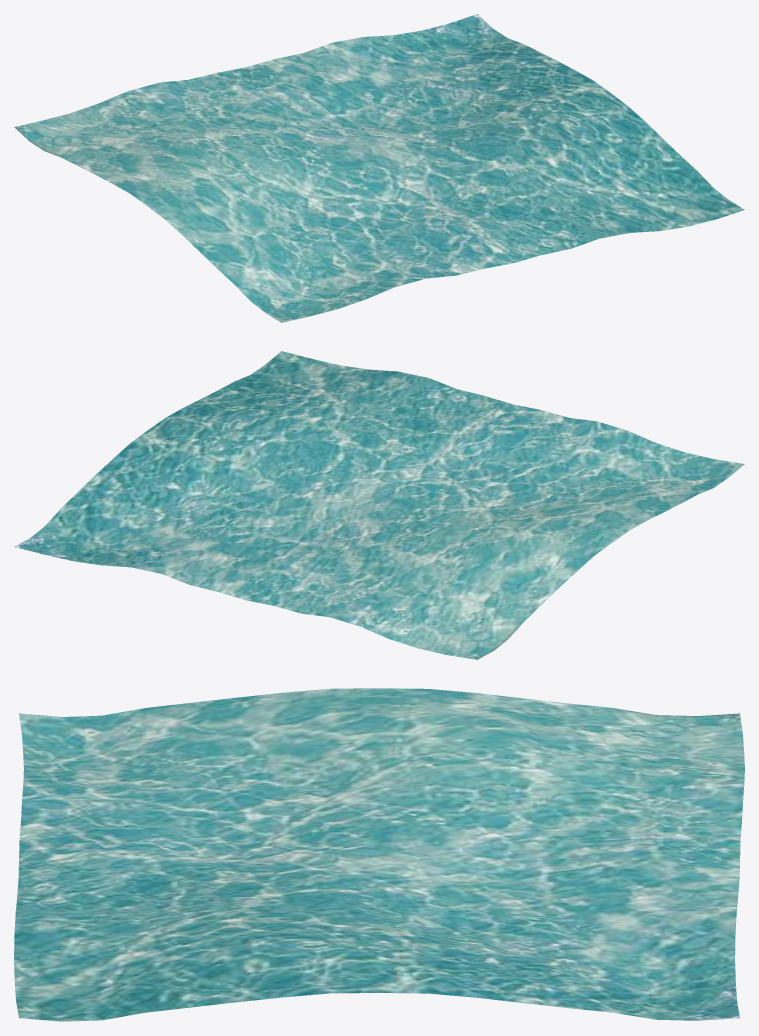
The model's file is water_000244.obj.
The picture shows the model from 3 angles, top to bottom: view 1: azimuth 30°, elevation 25°; view 2: azimuth 150°, elevation 25°; view 3: azimuth 270°, elevation 25°; orthographic projection. The views are drawn at different scales.
Parts seen in each view (by area): view 1: Plan.003_Plan.001; view 2: Plan.003_Plan.001; view 3: Plan.003_Plan.001.
Boxes of the visible parts, left/top/right/bottom form: Plan.003_Plan.001: left=14, top=14, right=744, bottom=322; Plan.003_Plan.001: left=14, top=351, right=744, bottom=659; Plan.003_Plan.001: left=14, top=688, right=744, bottom=1021.
Size of the model in its own units: 60524 by 3661 by 61167.
